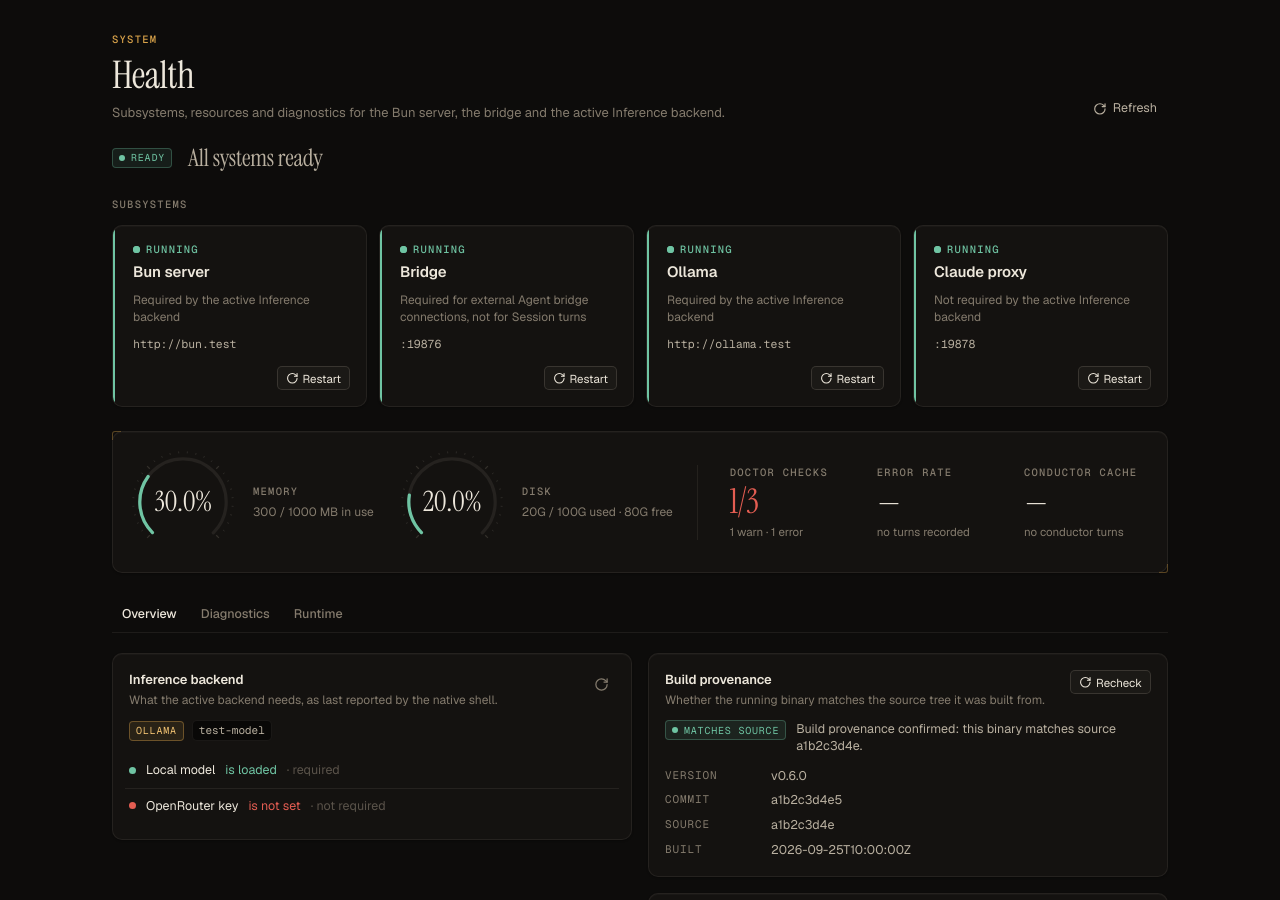
Scenario: Health page verdict and gauges › lists doctor warnings and errors by word, not only colour
Click the tab "Diagnostics" at (235, 615), box [191,597,280,633]
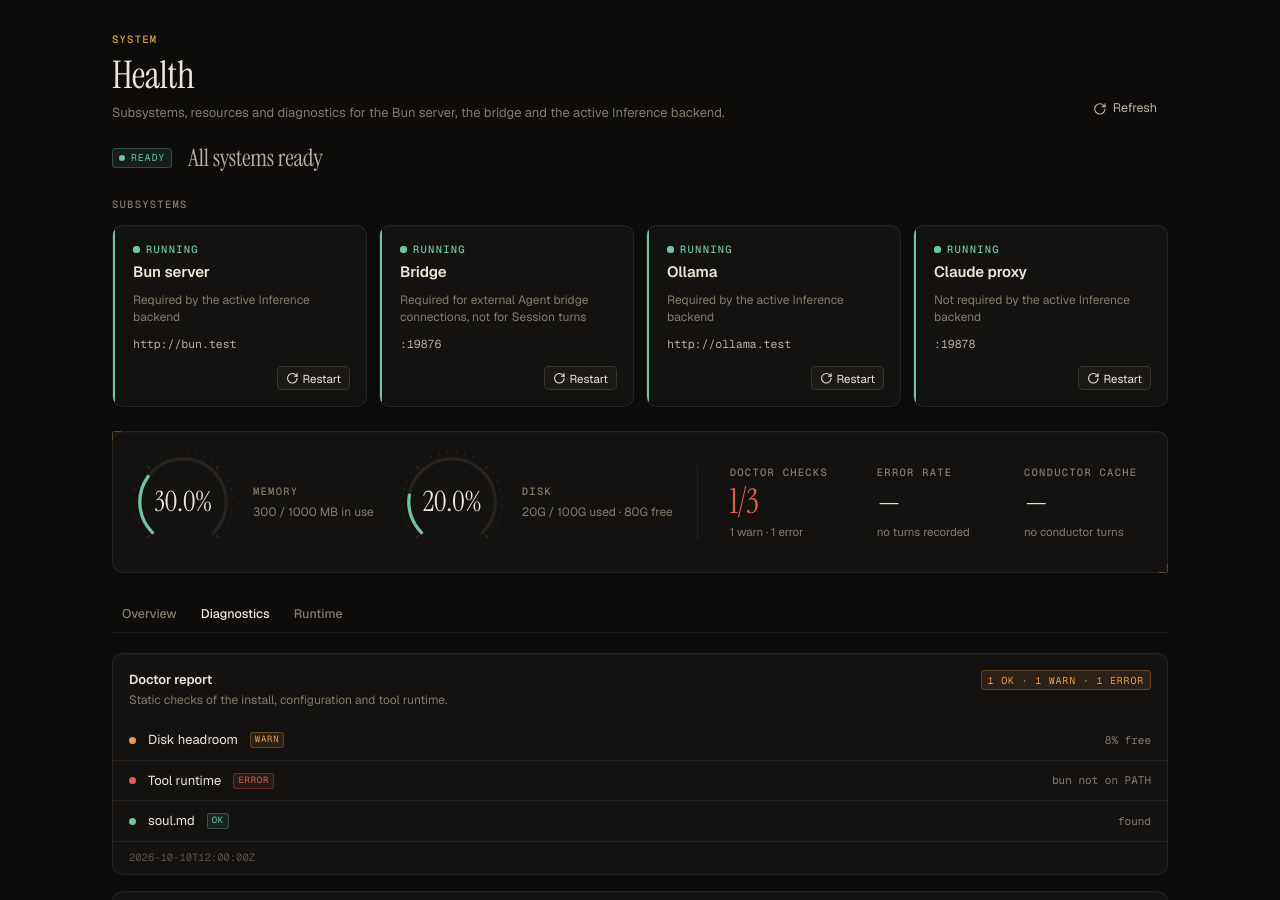
expect the text "1 ok · 1 warn · 1 error" is shown: met, box [988,673,1144,688]
expect the list item "Disk headroom" shows "warn": met, box [255,733,279,745]
expect the list item "Tool runtime" shows "error": met, box [238,774,269,786]
